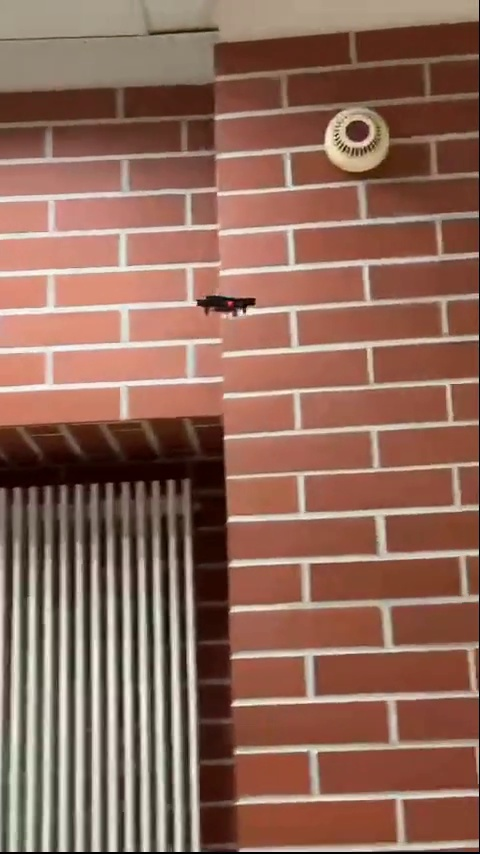drone: (193, 289, 256, 324)
